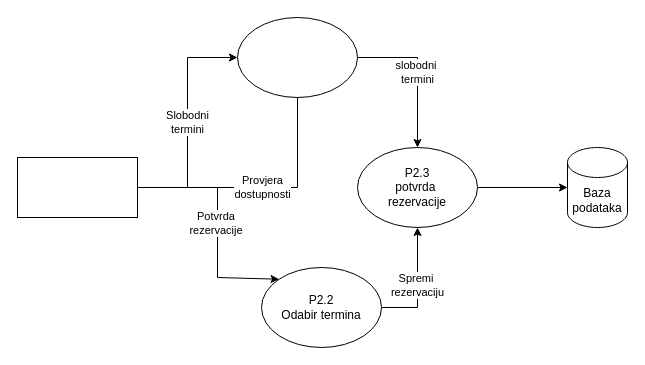
Image size: 645x365. Some labels were removed from this diagram. Each missing label, with the centre of its shape:
Korisnik: [77,187]
P2.1 Prikaz dostupnih termina: [297,57]
